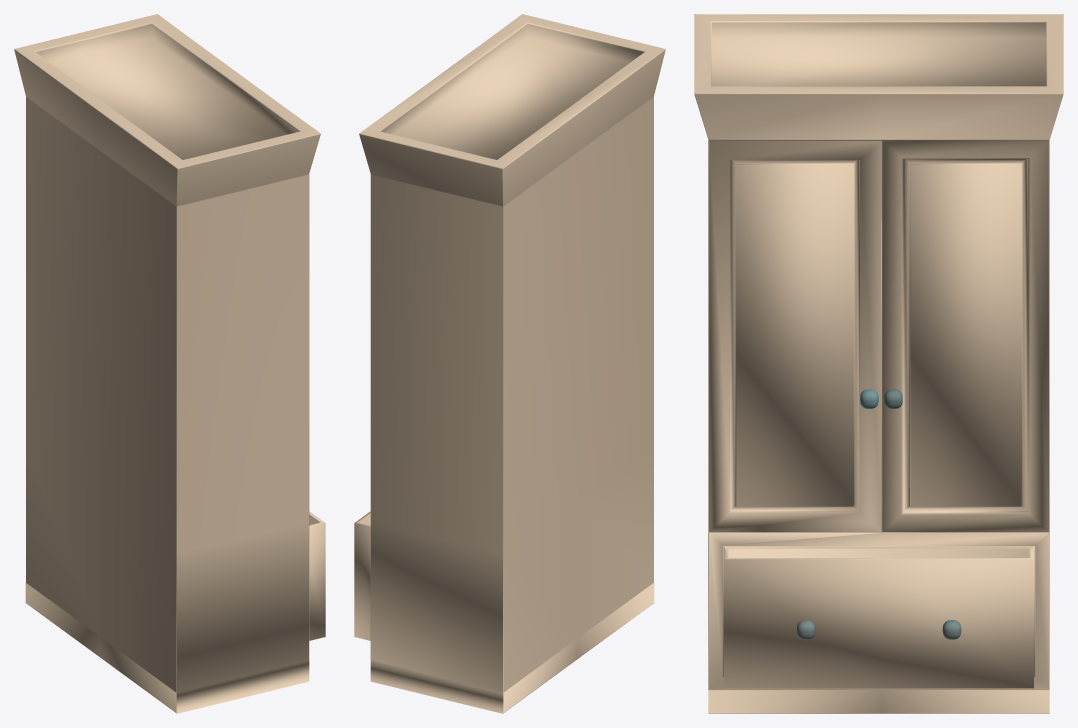
File: ClothingDrawer.fbx
The picture shows the model from 3 angles, left to right: view 1: azimuth 30°, elevation 25°; view 2: azimuth 150°, elevation 25°; view 3: azimuth 270°, elevation 25°; orthographic projection. The views are drawn at different scales.
Visible parts, largest first — view 1: Kleerkast; view 2: Kleerkast; view 3: Kleerkast, LadeKnop.
Part boxes in pixels (<box>): Kleerkast: <box>14,14,325,713</box>; Kleerkast: <box>354,14,665,713</box>; Kleerkast: <box>694,14,1063,713</box>; LadeKnop: <box>797,620,961,639</box>.
Bounding box in the file's own units: 270 × 794 × 426.
